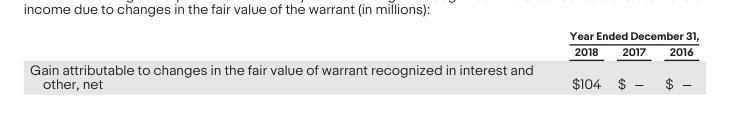table: (29, 29, 698, 91)
table column: (29, 29, 550, 91), (550, 29, 608, 91), (608, 29, 654, 91), (654, 29, 698, 91)
table column header: (29, 29, 698, 59)
table row: (29, 59, 698, 91), (29, 43, 698, 59), (29, 29, 698, 43)
table spanning cell: (550, 29, 698, 43)
